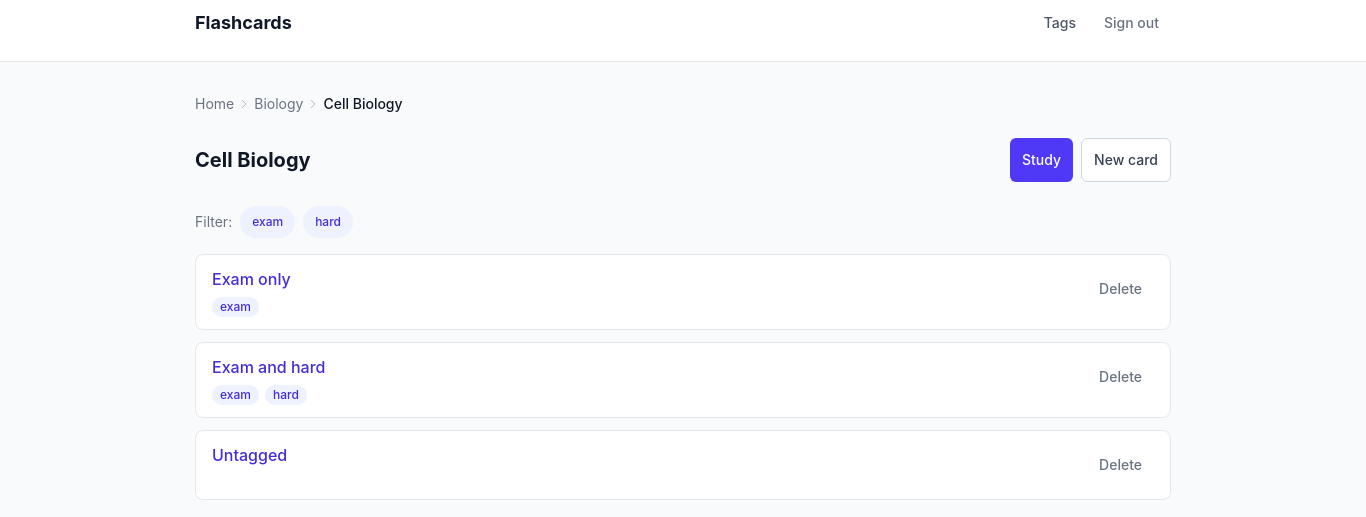
filters cards to those carrying every selected tag
Expected: the link "Untagged" is shown, x1=212 y1=445 x2=287 y2=465
Click the button with aria-label "Filter by exam": [268, 222] box x1=240 y1=206 x2=295 y2=238
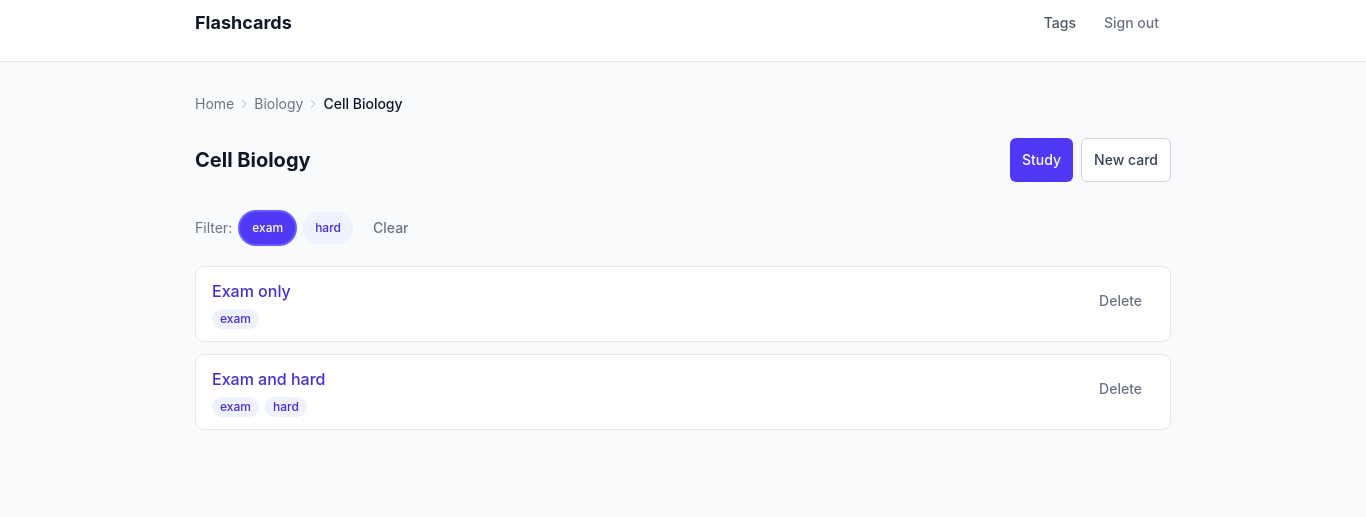
Expected: the link "Exam only" is shown, x1=212 y1=281 x2=291 y2=301
Expected: the link "Untagged" is gone
Click the button with aria-label "Filter by hard": [328, 228] box x1=303 y1=212 x2=353 y2=244
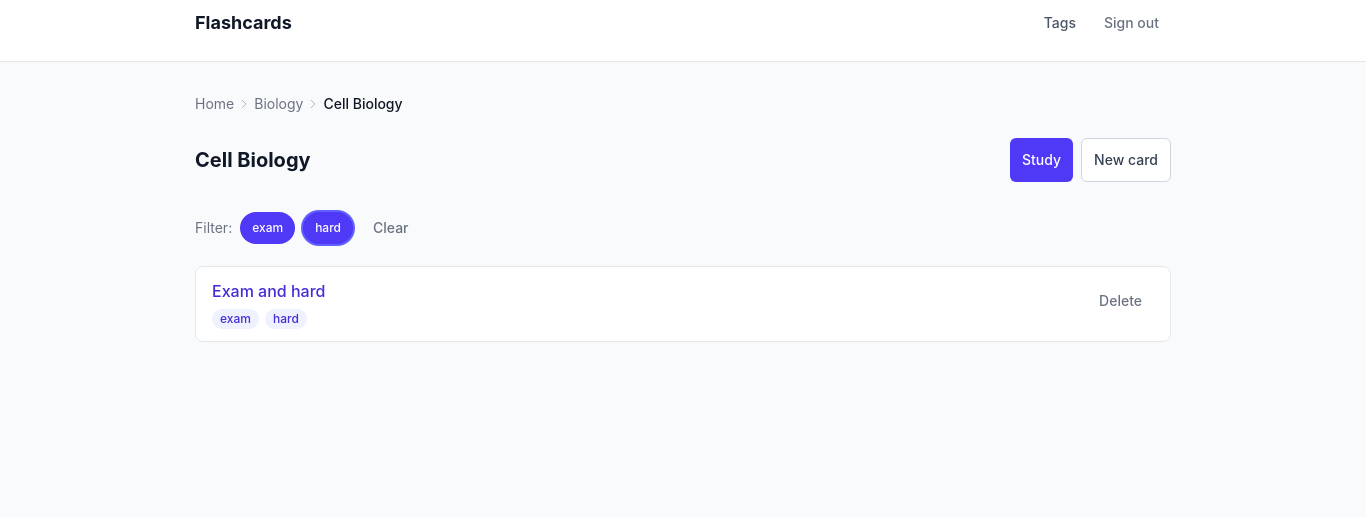
Expected: the link "Exam and hard" is shown, x1=212 y1=281 x2=326 y2=301
Expected: the link "Exam only" is gone
# Deselecting restores.
Click the button with aria-label "Filter by hard": [328, 228] box x1=303 y1=212 x2=353 y2=244
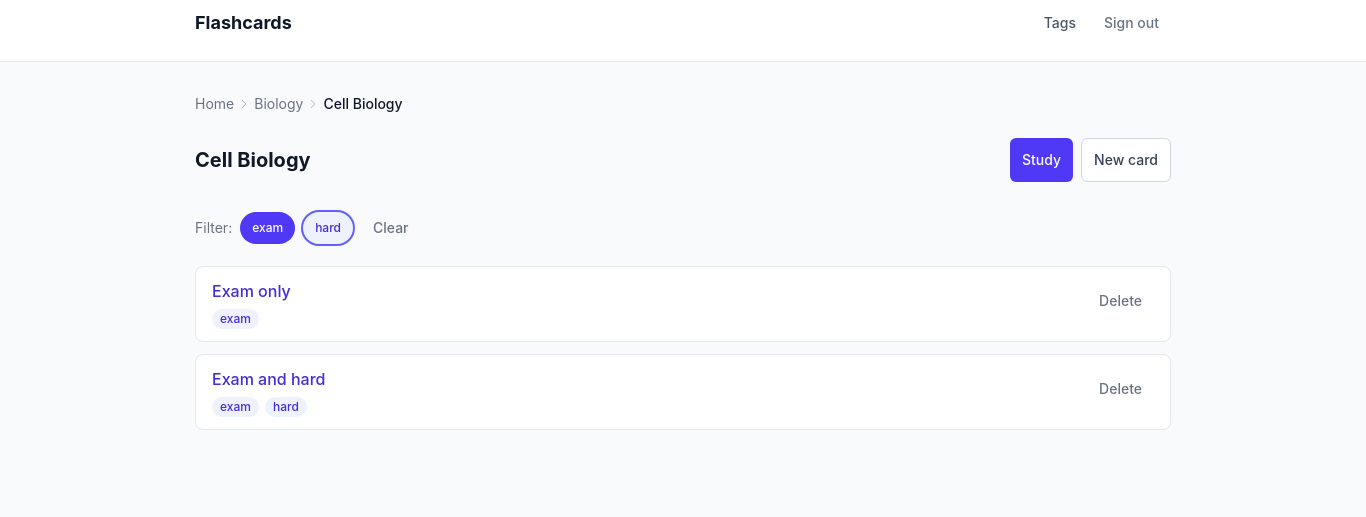
Click the button with aria-label "Filter by exam": [268, 228] box x1=240 y1=212 x2=295 y2=244
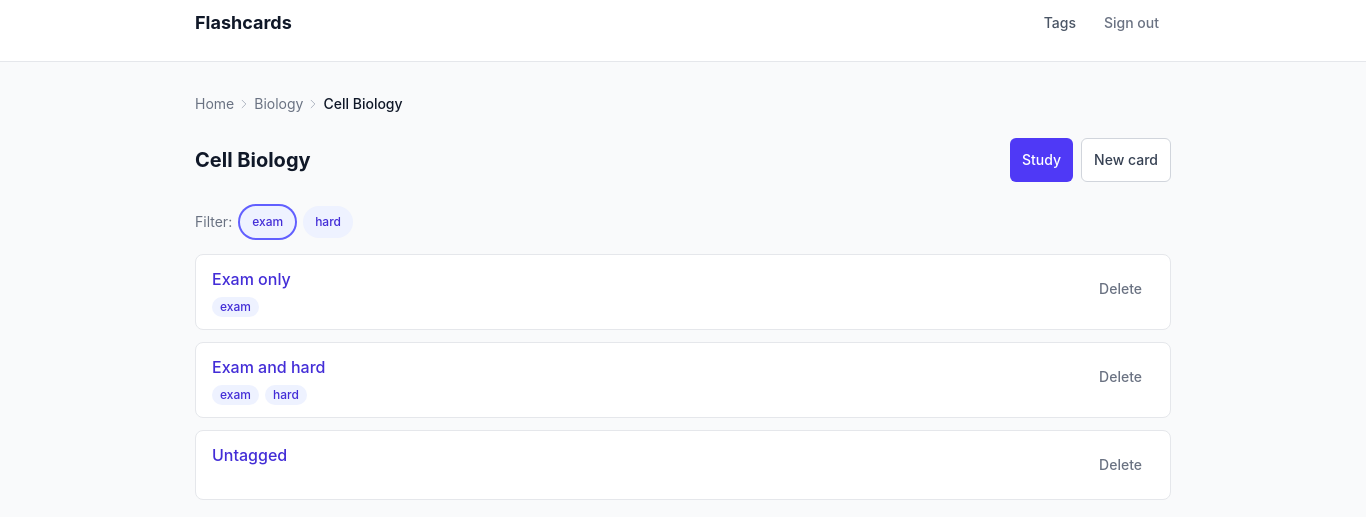
Expected: the link "Untagged" is shown, x1=212 y1=445 x2=287 y2=465
